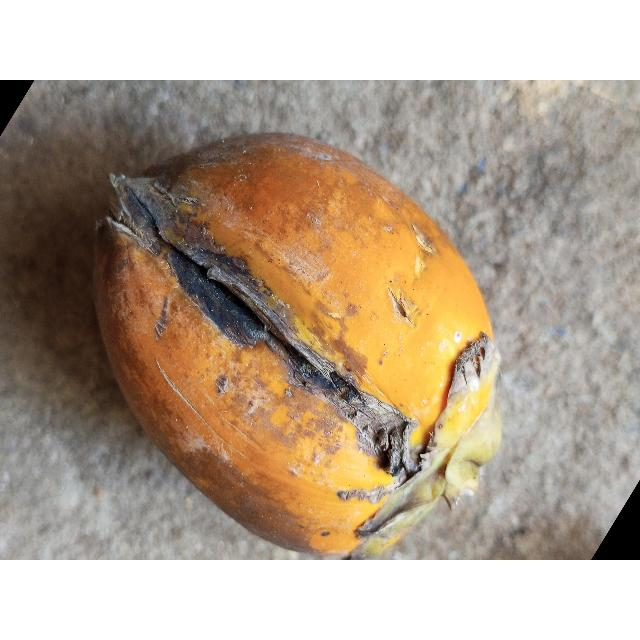damaged: (94, 134, 500, 556)
